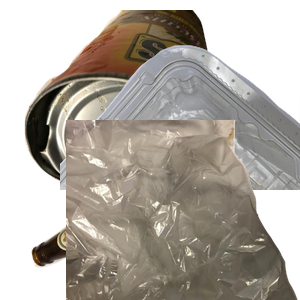glass: (29, 150, 238, 300)
metal: (22, 10, 251, 190)
plastic: (60, 43, 300, 223)
trash: (66, 120, 300, 300)
